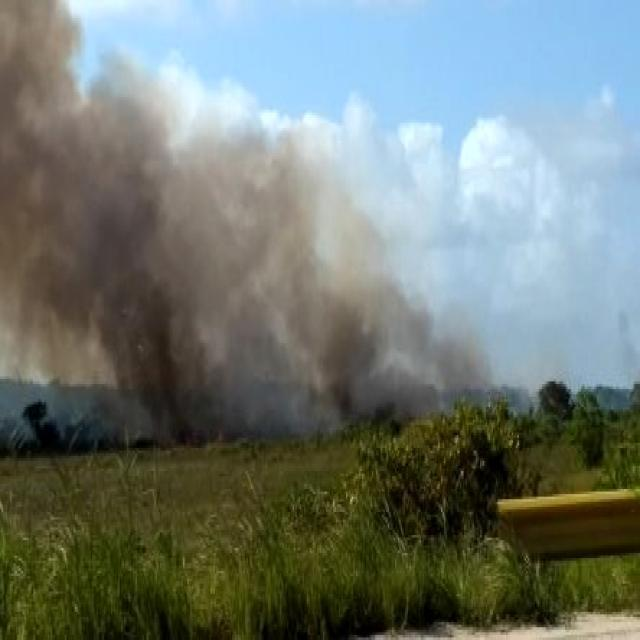Smoke: (0, 0, 419, 410)
